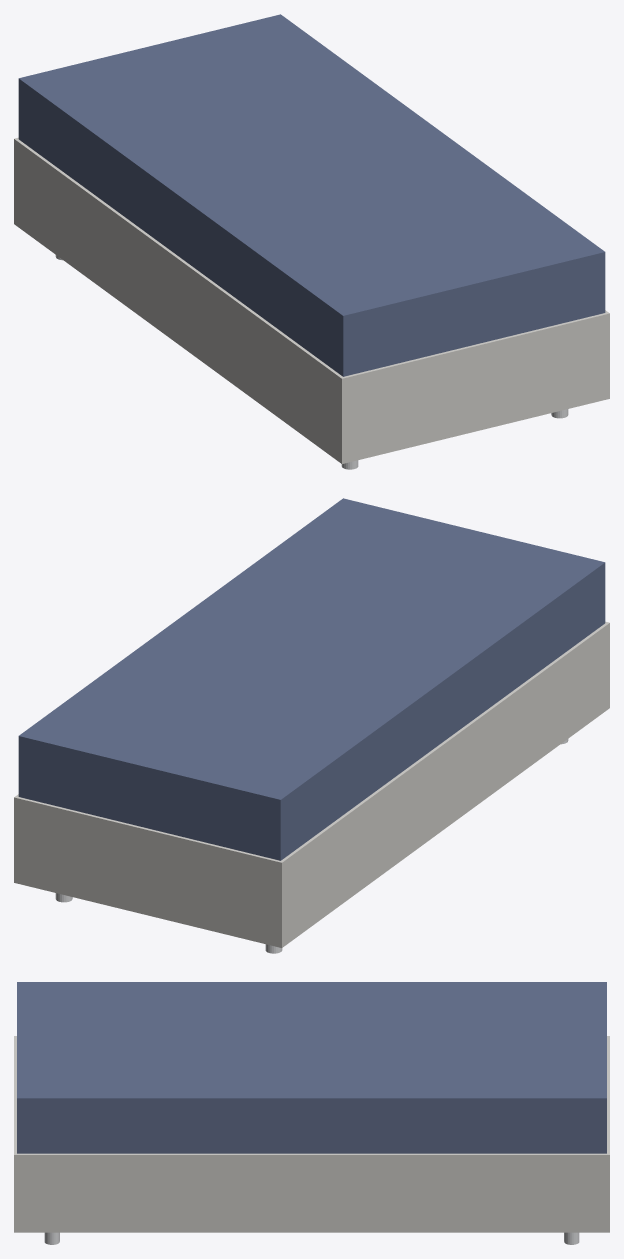
Rendered from 0-single-bed.glb.
3 views of the same model, one above another, from view 1: azimuth 30°, elevation 25°; view 2: azimuth 150°, elevation 25°; view 3: azimuth 270°, elevation 25° (orthographic). The views are drawn at different scales.
Visible parts, largest first — view 1: mattress, base; view 2: mattress, base; view 3: mattress, base.
Part boxes in pixels (x1,y1,x2,y2): mattress: [18, 14, 605, 376]; base: [14, 137, 609, 463]; mattress: [18, 498, 605, 860]; base: [14, 621, 609, 947]; mattress: [17, 982, 606, 1153]; base: [14, 1036, 609, 1232].
Size of the model in its own units: 0.92 by 0.56 by 1.95.
